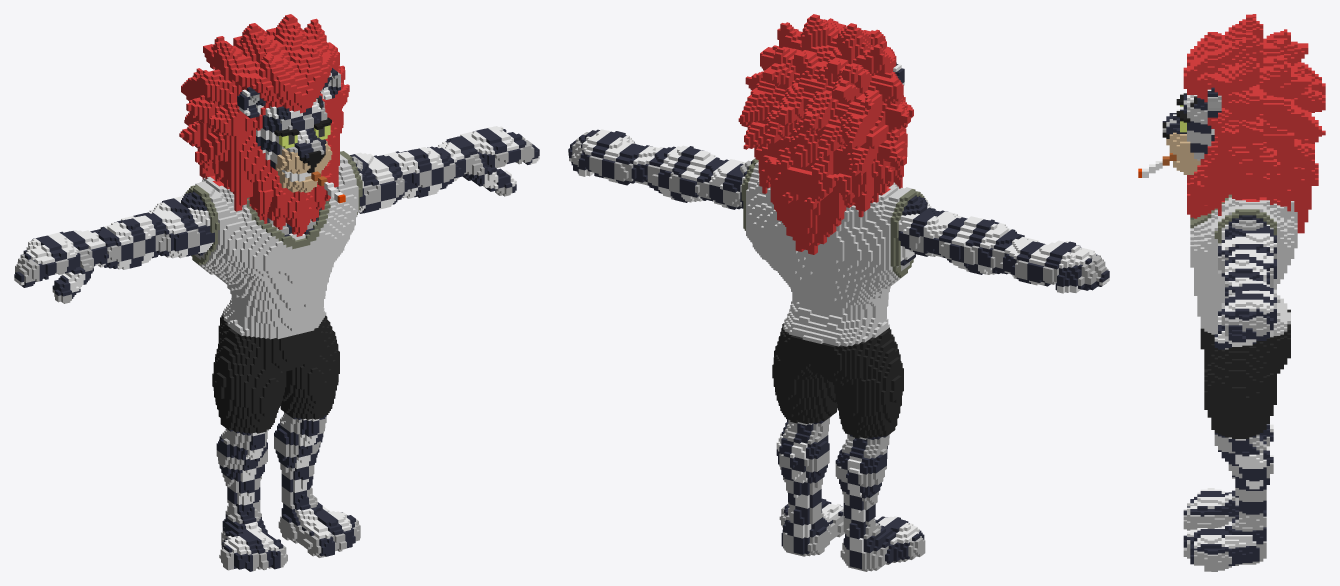
The model's file is 57-DHxn16-A.fbx.
3 views of the same model, side by side, from view 1: azimuth 30°, elevation 25°; view 2: azimuth 150°, elevation 25°; view 3: azimuth 270°, elevation 25° (orthographic). The views are drawn at different scales.
Parts seen in each view (by area): view 1: cigarette; view 2: cigarette; view 3: cigarette.
Part boxes in pixels (x1,y1,x2,y2): cigarette: (14,14,539,571); cigarette: (568,14,1109,571); cigarette: (1138,14,1325,571).
Bounding box in the file's own units: 17.2 × 16.5 × 5.4.
Materials: 5 (5 with a texture image).
